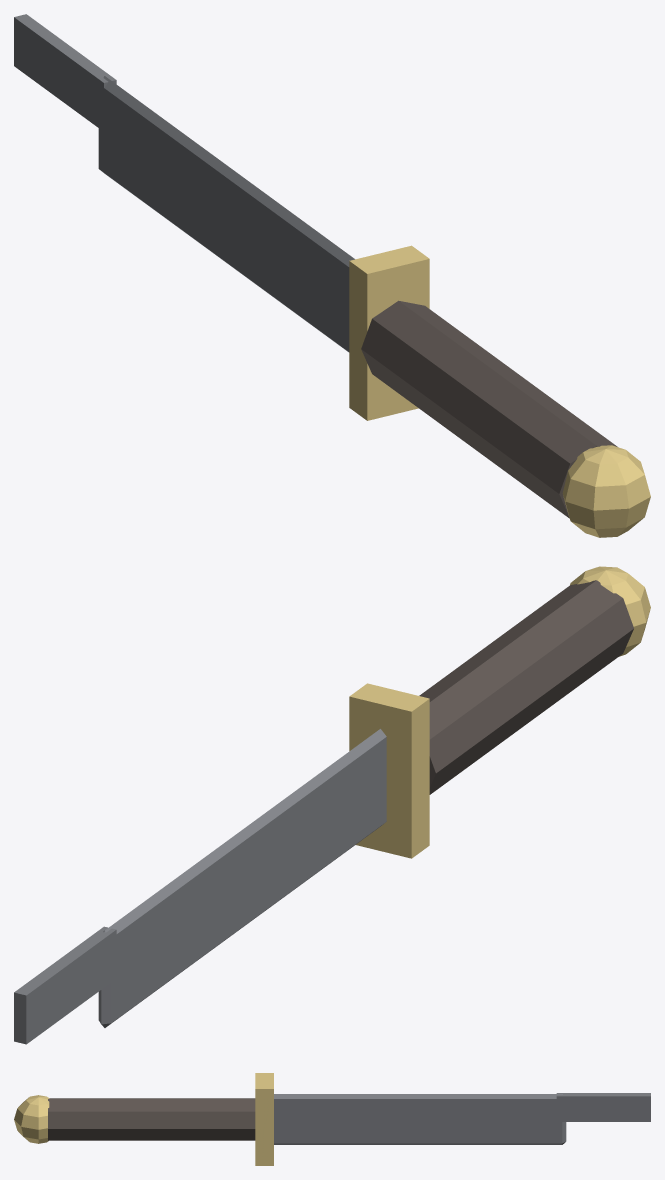
Rendered from knife.glb.
3 views of the same model, one above another, from view 1: azimuth 30°, elevation 25°; view 2: azimuth 150°, elevation 25°; view 3: azimuth 270°, elevation 25° (orthographic). The views are drawn at different scales.
Visible parts, largest first — view 1: wpn_knife; view 2: wpn_knife; view 3: wpn_knife.
Part boxes in pixels (left/top/right/bottom): wpn_knife: left=14, top=14, right=650, bottom=537; wpn_knife: left=14, top=566, right=650, bottom=1044; wpn_knife: left=14, top=1073, right=650, bottom=1165.
Size of what is drawn, in the model's own units: 0.026 by 0.045 by 0.338.
